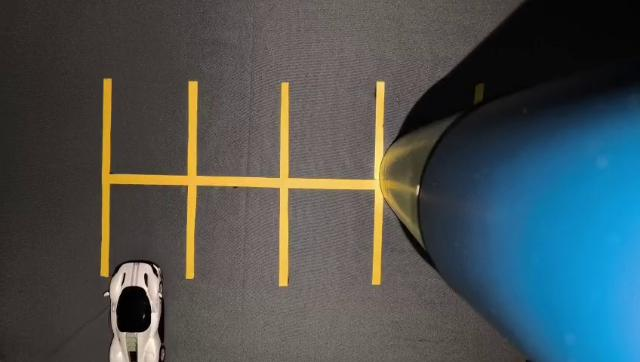toy_car: (89, 224, 208, 362)
